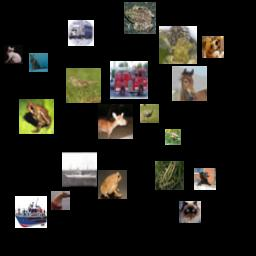bird: (66, 68, 101, 103), (140, 104, 159, 123), (165, 129, 181, 145)
cat: (179, 201, 201, 223), (29, 53, 48, 72), (4, 45, 23, 64)
deer: (98, 104, 133, 139)
dog: (194, 168, 216, 190), (202, 36, 224, 58)
frog: (159, 26, 197, 64), (19, 99, 54, 134), (124, 2, 156, 34), (98, 170, 127, 199), (155, 161, 184, 190)
ship: (62, 152, 97, 187), (15, 196, 47, 228)
truck: (110, 61, 148, 99), (68, 20, 94, 46)
